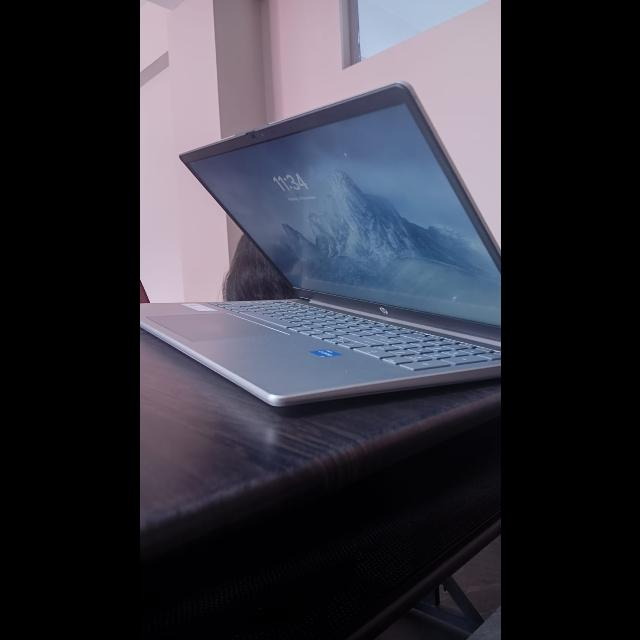laptop: (146, 77, 499, 430)
